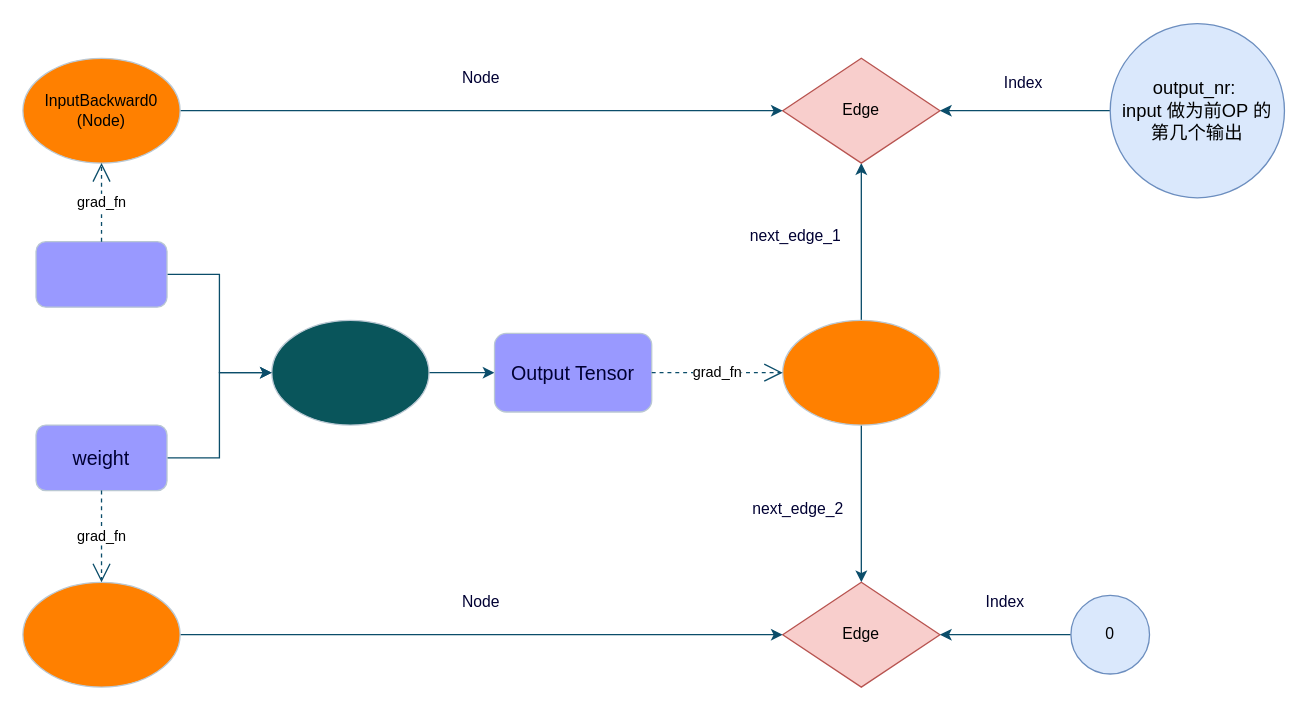
Image size: 1307x710. Some labels were removed from this diagram. Here are the shapes that lost their labels. From the top down, the box of each, then its label:
(35, 240, 167, 307): Input
(271, 319, 429, 425): OP
(781, 319, 940, 425): OpBackward0 (Node)
(22, 581, 180, 687): AccumulateGrad (Node)
